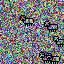sheep: (45, 52, 61, 64), (39, 52, 53, 64), (20, 15, 34, 26), (44, 21, 58, 32), (53, 36, 64, 47)
